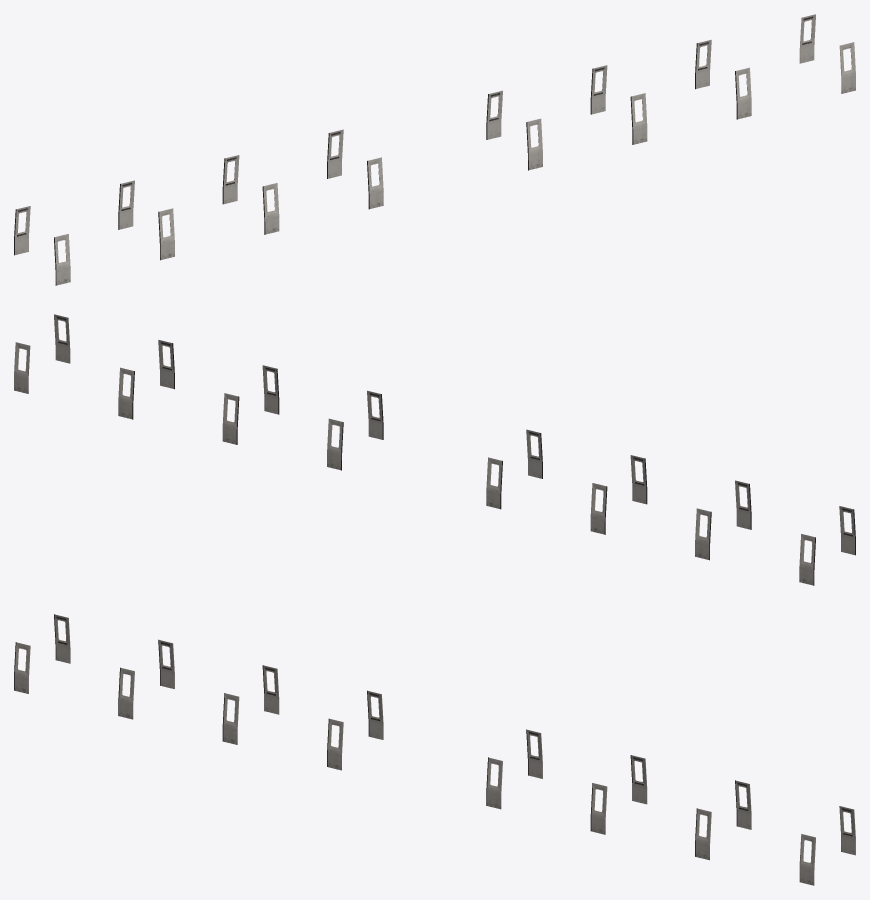
File: turnedRightDoors.glb
3 renders of one model, top to bottom at view 1: azimuth 30°, elevation 25°; view 2: azimuth 150°, elevation 25°; view 3: azimuth 330°, elevation 25°, orthographic.
Visible parts, largest first — view 1: PuertasLaterales_LP.005_PuertasLaterales_0, PuertasLaterales2_LP.002_PuertasLaterales_0, PuertasLaterales2_LP.003_PuertasLaterales_0, PuertasLaterales_LP.007_PuertasLaterales_0, PuertasLaterales_LP.008_PuertasLaterales_0, PuertasLaterales2_LP.001_PuertasLaterales_0, PuertasLaterales_LP.006_PuertasLaterales_0, PuertasLaterales2_LP.004_PuertasLaterales_0; view 2: PuertasLaterales_LP.005_PuertasLaterales_0, PuertasLaterales2_LP.002_PuertasLaterales_0, PuertasLaterales2_LP.003_PuertasLaterales_0, PuertasLaterales_LP.007_PuertasLaterales_0, PuertasLaterales_LP.008_PuertasLaterales_0, PuertasLaterales2_LP.001_PuertasLaterales_0, PuertasLaterales_LP.006_PuertasLaterales_0, PuertasLaterales2_LP.004_PuertasLaterales_0; view 3: PuertasLaterales_LP.005_PuertasLaterales_0, PuertasLaterales_LP.007_PuertasLaterales_0, PuertasLaterales2_LP.001_PuertasLaterales_0, PuertasLaterales2_LP.003_PuertasLaterales_0, PuertasLaterales_LP.006_PuertasLaterales_0, PuertasLaterales_LP.008_PuertasLaterales_0, PuertasLaterales2_LP.002_PuertasLaterales_0, PuertasLaterales2_LP.004_PuertasLaterales_0.
Boxes of the visible parts, <box> form: PuertasLaterales_LP.005_PuertasLaterales_0: <box>799,14,855,93</box>; PuertasLaterales2_LP.002_PuertasLaterales_0: <box>119,180,174,259</box>; PuertasLaterales2_LP.003_PuertasLaterales_0: <box>223,155,279,234</box>; PuertasLaterales_LP.007_PuertasLaterales_0: <box>591,65,647,144</box>; PuertasLaterales_LP.008_PuertasLaterales_0: <box>487,90,542,170</box>; PuertasLaterales2_LP.001_PuertasLaterales_0: <box>15,206,70,285</box>; PuertasLaterales_LP.006_PuertasLaterales_0: <box>696,39,751,119</box>; PuertasLaterales2_LP.004_PuertasLaterales_0: <box>328,129,383,208</box>; PuertasLaterales_LP.005_PuertasLaterales_0: <box>14,314,70,393</box>; PuertasLaterales2_LP.002_PuertasLaterales_0: <box>695,480,750,559</box>; PuertasLaterales2_LP.003_PuertasLaterales_0: <box>590,455,646,534</box>; PuertasLaterales_LP.007_PuertasLaterales_0: <box>222,365,278,444</box>; PuertasLaterales_LP.008_PuertasLaterales_0: <box>327,390,382,470</box>; PuertasLaterales2_LP.001_PuertasLaterales_0: <box>799,506,854,585</box>; PuertasLaterales_LP.006_PuertasLaterales_0: <box>118,339,173,419</box>; PuertasLaterales2_LP.004_PuertasLaterales_0: <box>486,429,541,508</box>; PuertasLaterales_LP.005_PuertasLaterales_0: <box>799,806,855,885</box>; PuertasLaterales_LP.007_PuertasLaterales_0: <box>591,755,647,834</box>; PuertasLaterales2_LP.001_PuertasLaterales_0: <box>14,614,70,693</box>; PuertasLaterales2_LP.003_PuertasLaterales_0: <box>223,665,279,744</box>; PuertasLaterales_LP.006_PuertasLaterales_0: <box>695,780,751,860</box>; PuertasLaterales_LP.008_PuertasLaterales_0: <box>487,729,542,809</box>; PuertasLaterales2_LP.002_PuertasLaterales_0: <box>119,640,174,719</box>; PuertasLaterales2_LP.004_PuertasLaterales_0: <box>327,691,383,770</box>.
Size of the model in its own units: 25.84 by 1.45 by 2.34.
Materials: 1 (1 with a texture image).
